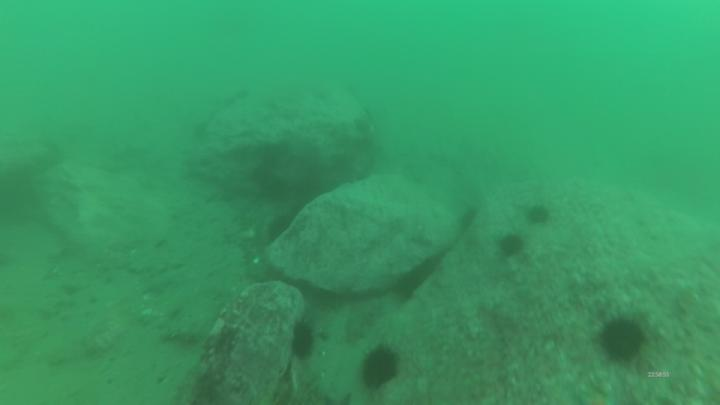echinus: (599, 317, 645, 365), (363, 350, 395, 389), (293, 324, 318, 356), (499, 236, 521, 255), (529, 206, 548, 225)
